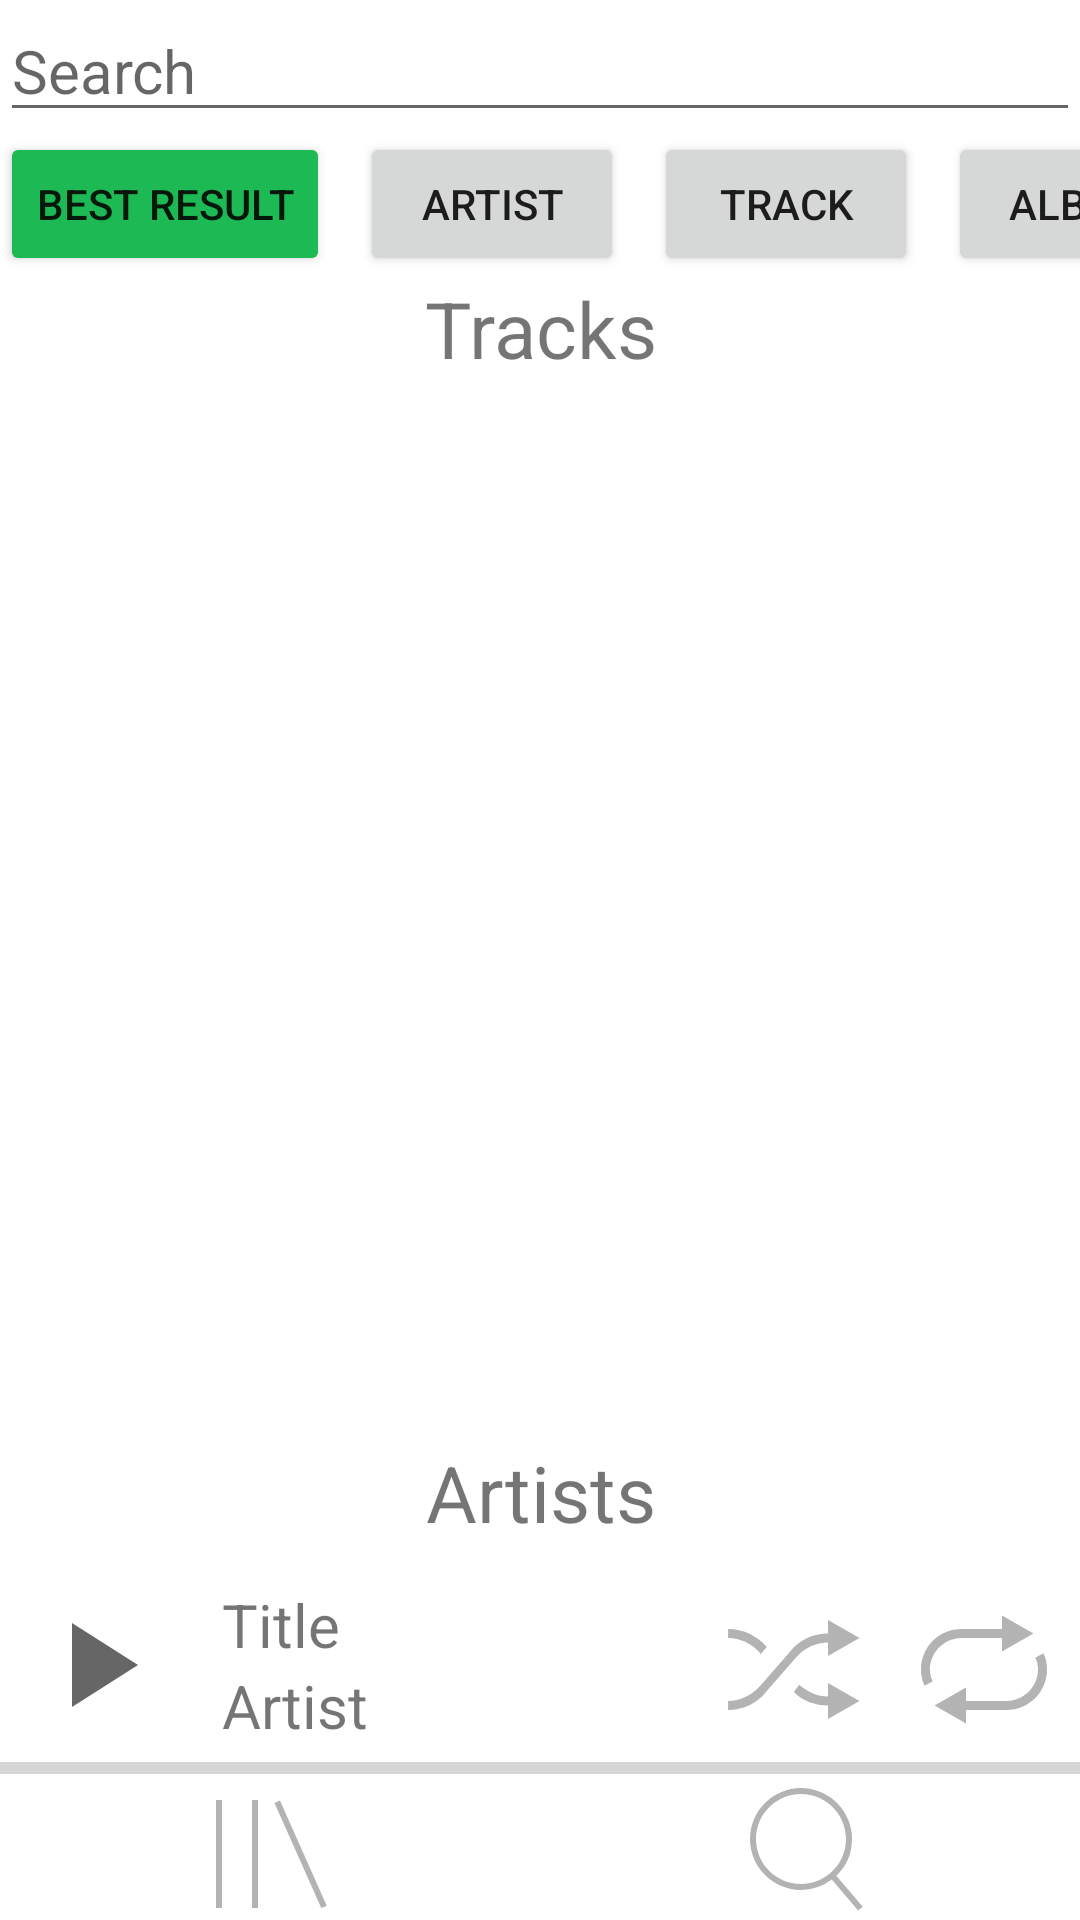

Screen size 1080x1920. Icon name, then its center in pixels as point (x, y):
library: point (271, 1854)
play arrow: point (105, 1665)
repeat off: point (984, 1669)
search: point (806, 1849)
shuffle off: point (793, 1669)
